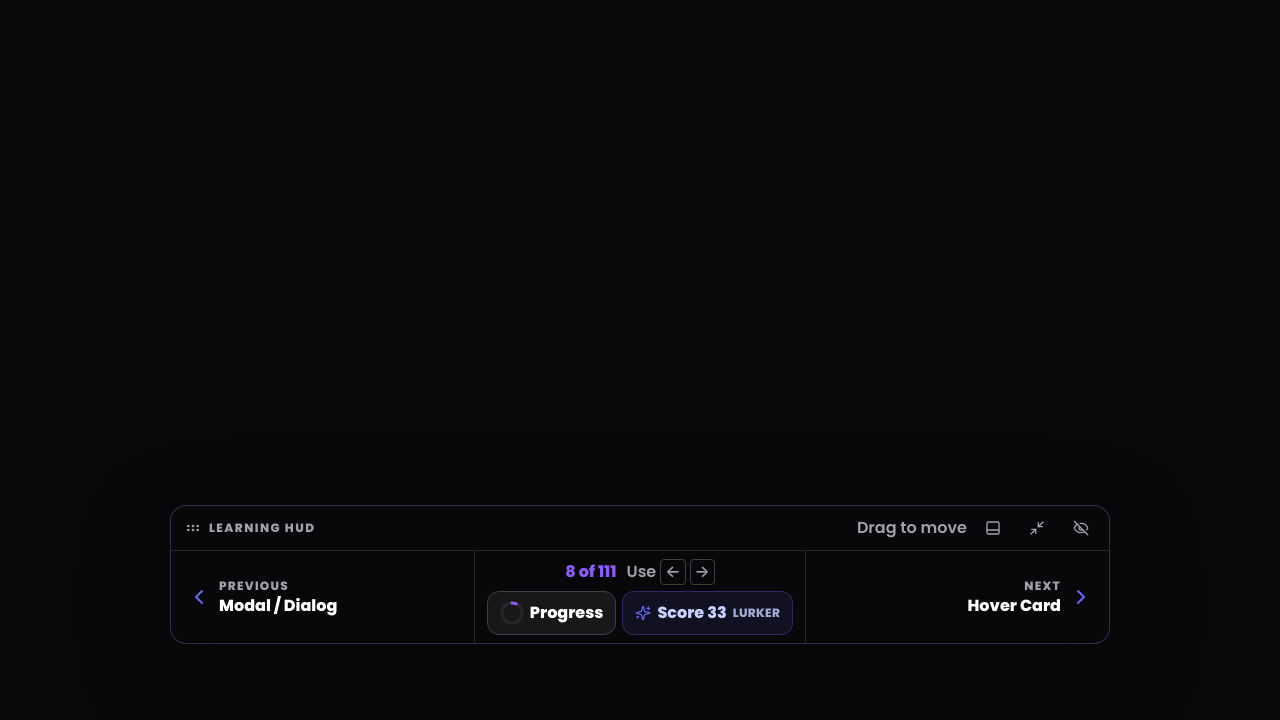
Test: FloatingLearningHud › keeps the proof button secondary when the class bar is not met
Click the button "Score 33 Lurker": (708, 613) x1=622 y1=591 x2=793 y2=635
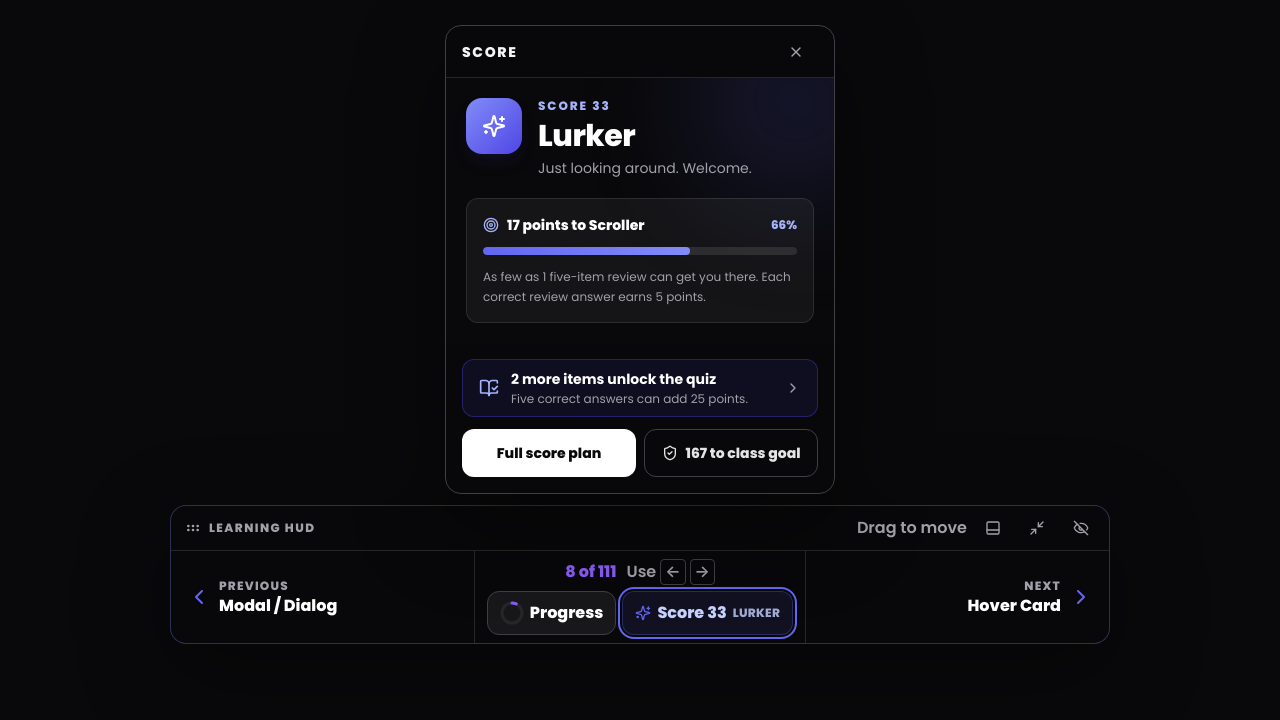
Expected: the button "167 to class goal" is shown, x1=644 y1=429 x2=818 y2=477
